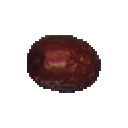gd: (21, 24, 117, 102)
